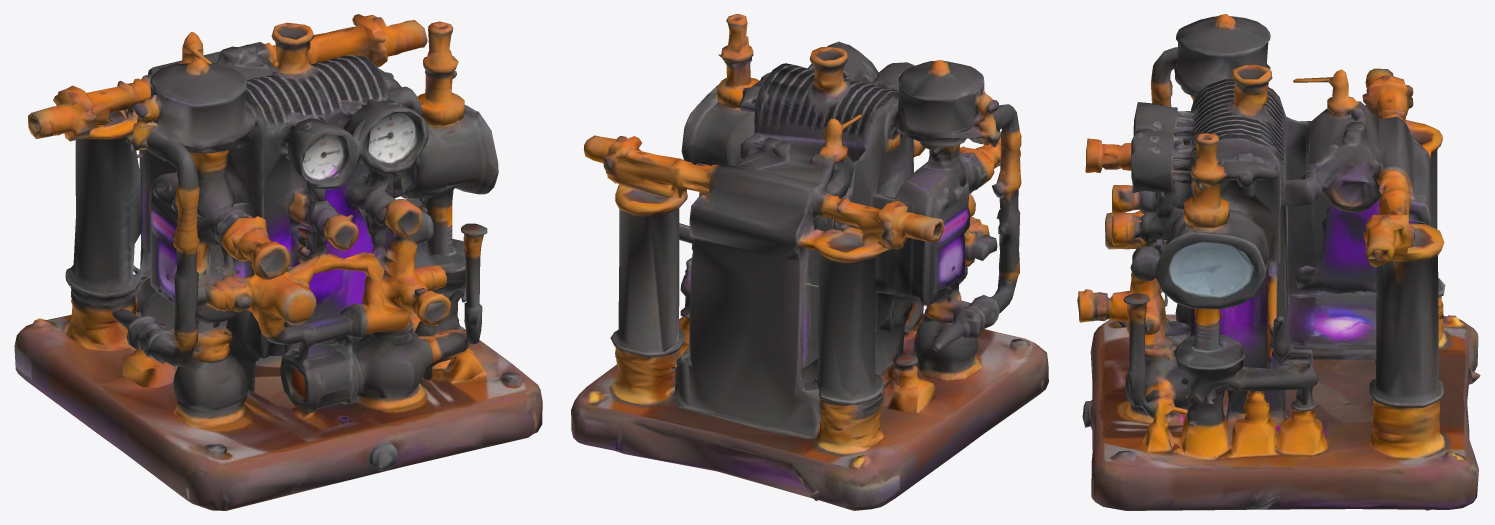
The model's file is pipeworks.glb.
3 views of the same model, side by side, from view 1: azimuth 30°, elevation 25°; view 2: azimuth 150°, elevation 25°; view 3: azimuth 270°, elevation 25° (orthographic). The views are drawn at different scales.
Size of the model in its own units: 2 by 1.97 by 1.93.
1 material, 1 textured.
